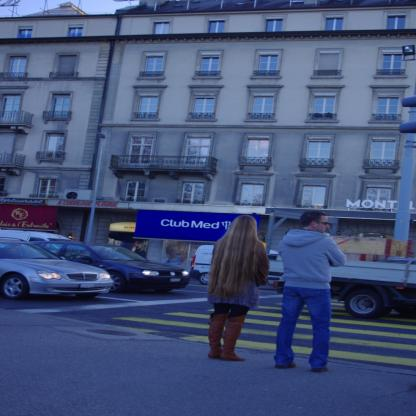Car: (34, 242, 196, 291), (1, 239, 114, 302)
